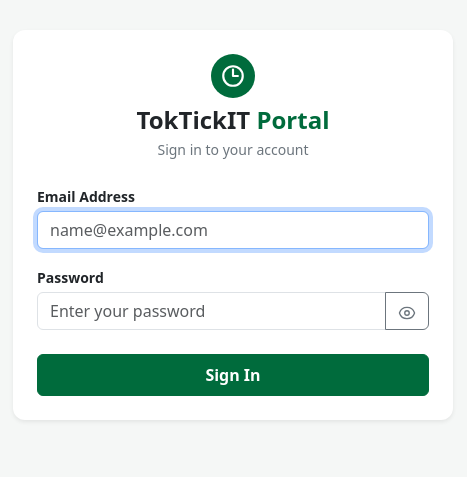
Test case: Login Screen & Authentication Tests (Lab 3) › UI-04: displays safe error banner 'Your account is currently inactive. Please contact an administrator.' on ACCOUNT_INACTIVE
Type "eve.inactive@toktickit.com" into the field labelled "Email Address" at (233, 230), box left=37, top=211, right=429, bottom=249
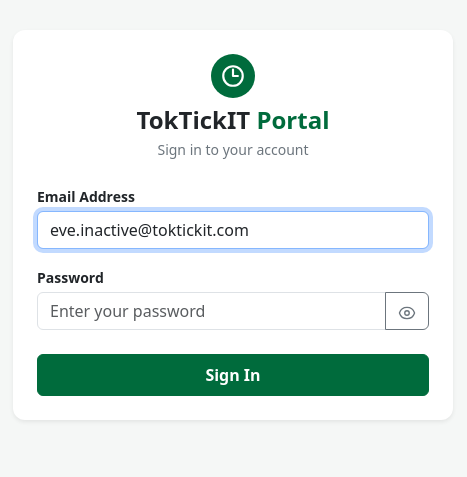
Type "Password123!" into the password field labelled "Password" at (212, 311), box left=37, top=292, right=386, bottom=330
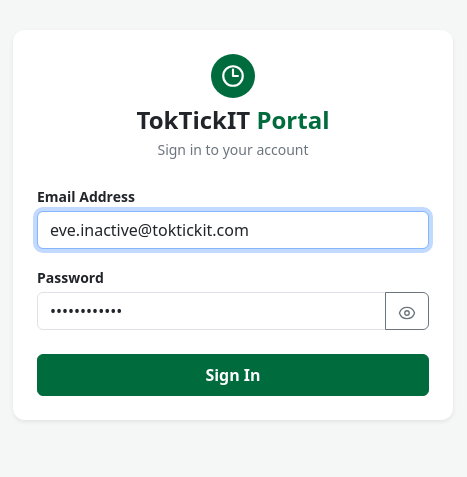
Click the button "Sign In" at (233, 375), box left=37, top=354, right=429, bottom=396
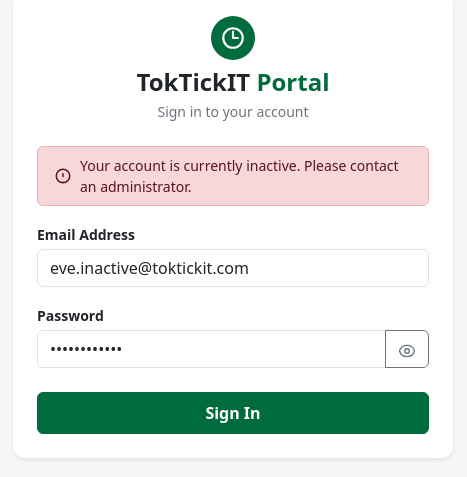
Expected: the text "Your account is currently inactive. Please contact an administrator." is shown, left=80, top=155, right=412, bottom=197
